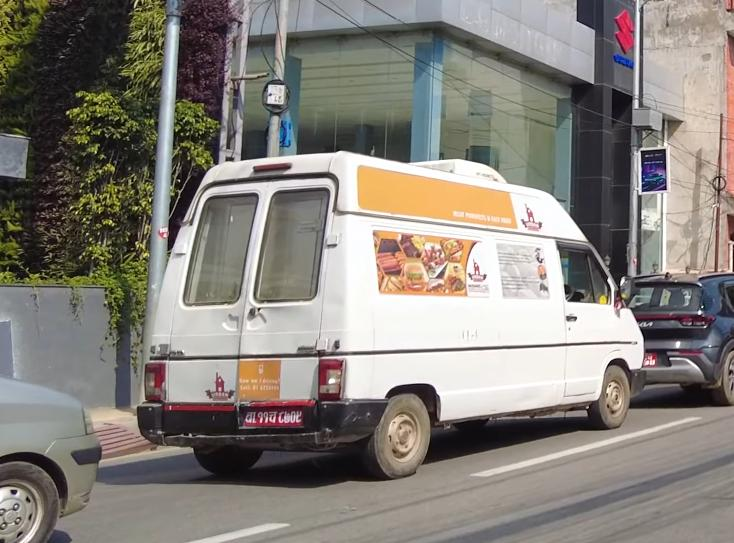ambulance: (136, 148, 652, 484)
car: (613, 263, 734, 407)
